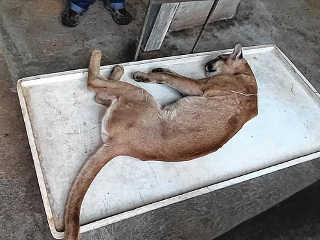OncaParda: (49, 42, 261, 229)
